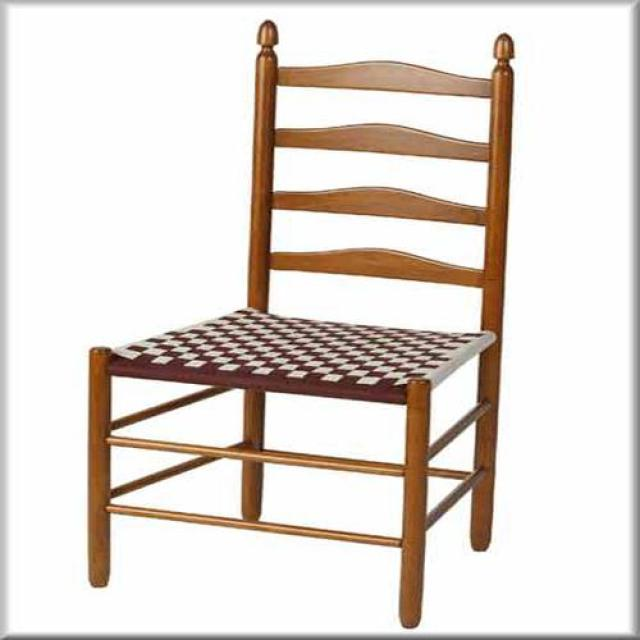chair: (88, 22, 517, 631)
